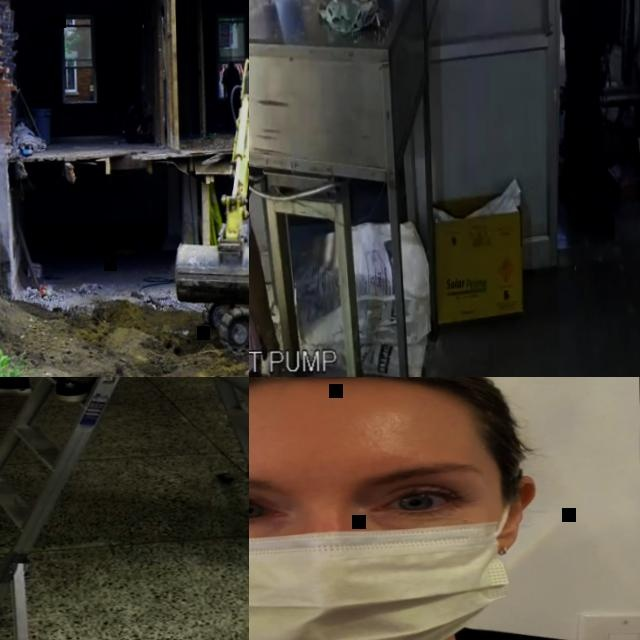Mask: (249, 471, 519, 640)
NO-Hardhat: (249, 377, 508, 440)
NO-Safety Vest: (571, 0, 624, 38)
Person: (249, 377, 640, 640), (548, 0, 633, 239), (249, 0, 288, 377), (221, 60, 242, 114)
machinery: (172, 56, 249, 356)
